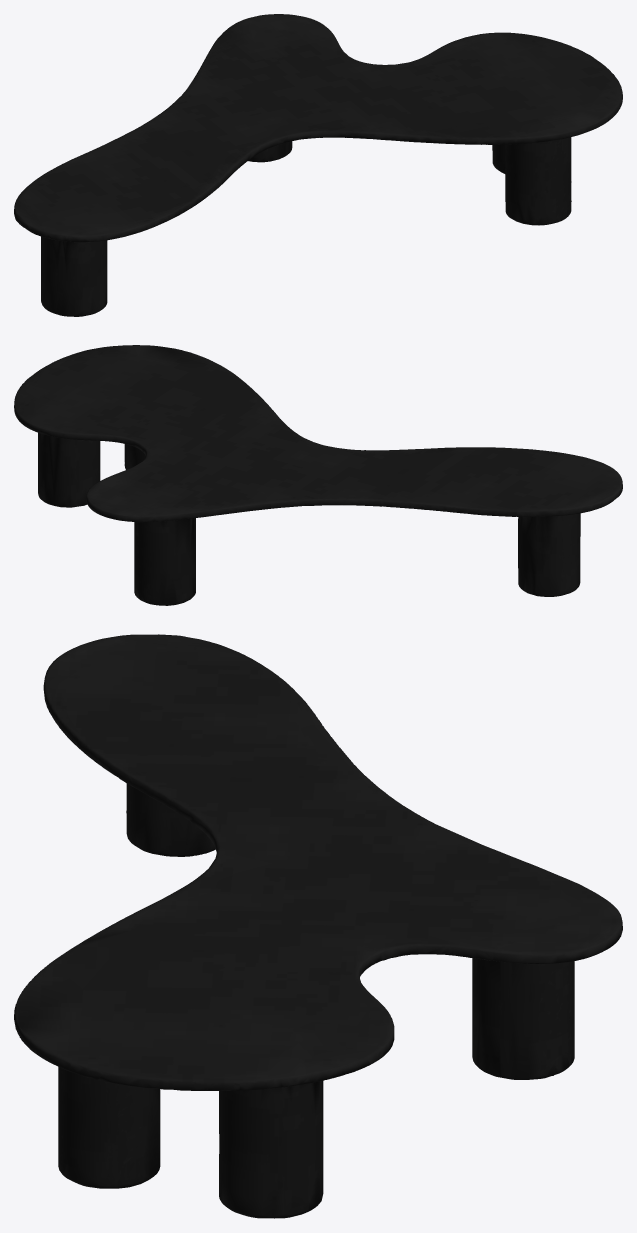
Rendered from QmefyGehuDcHRyUtqm547.glb.
The picture shows the model from 3 angles, top to bottom: view 1: azimuth 30°, elevation 25°; view 2: azimuth 150°, elevation 25°; view 3: azimuth 270°, elevation 25°; orthographic projection. The views are drawn at different scales.
Parts seen in each view (by area): view 1: geometry_0; view 2: geometry_0; view 3: geometry_0.
Boxes of the visible parts, bbox=[...] form: geometry_0: bbox=[14, 14, 622, 316]; geometry_0: bbox=[14, 345, 622, 605]; geometry_0: bbox=[14, 634, 622, 1218].
Size of the model in its own units: 1 by 0.1667 by 0.5754.
Materials: 1 (1 with a texture image).
